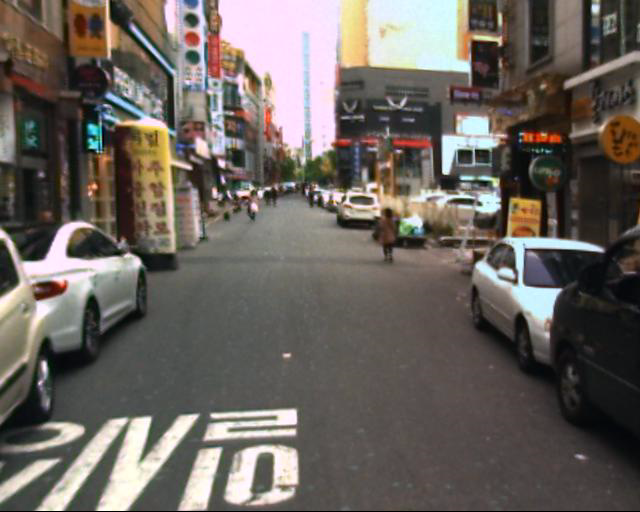person: (374, 197, 404, 278), (242, 183, 263, 235)
